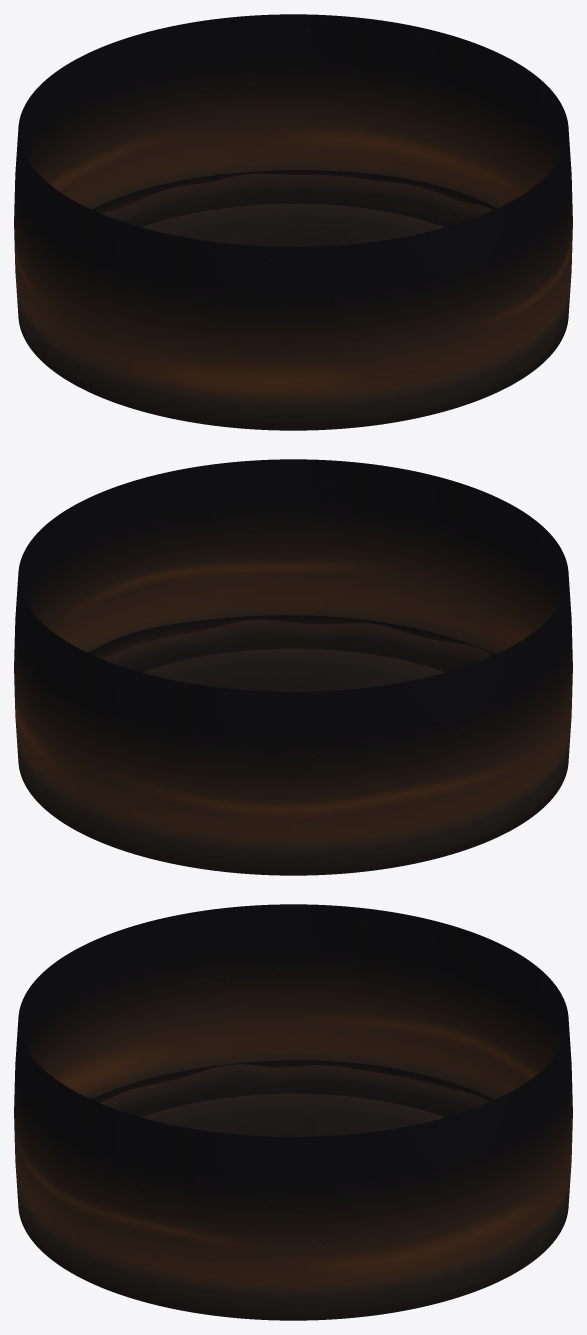
The model's file is archive-world-panorama.glb.
The picture shows the model from 3 angles, top to bottom: view 1: azimuth 30°, elevation 25°; view 2: azimuth 150°, elevation 25°; view 3: azimuth 270°, elevation 25°; orthographic projection.
Visible parts, largest first — view 1: ArchiveWorldPanorama; view 2: ArchiveWorldPanorama; view 3: ArchiveWorldPanorama.
Boxes of the visible parts, <box> form: ArchiveWorldPanorama: <box>14,14,572,430</box>; ArchiveWorldPanorama: <box>14,459,572,875</box>; ArchiveWorldPanorama: <box>14,904,572,1320</box>.
Bounding box in the file's own units: 386 × 140 × 386.
Materials: 1 (1 with a texture image).
